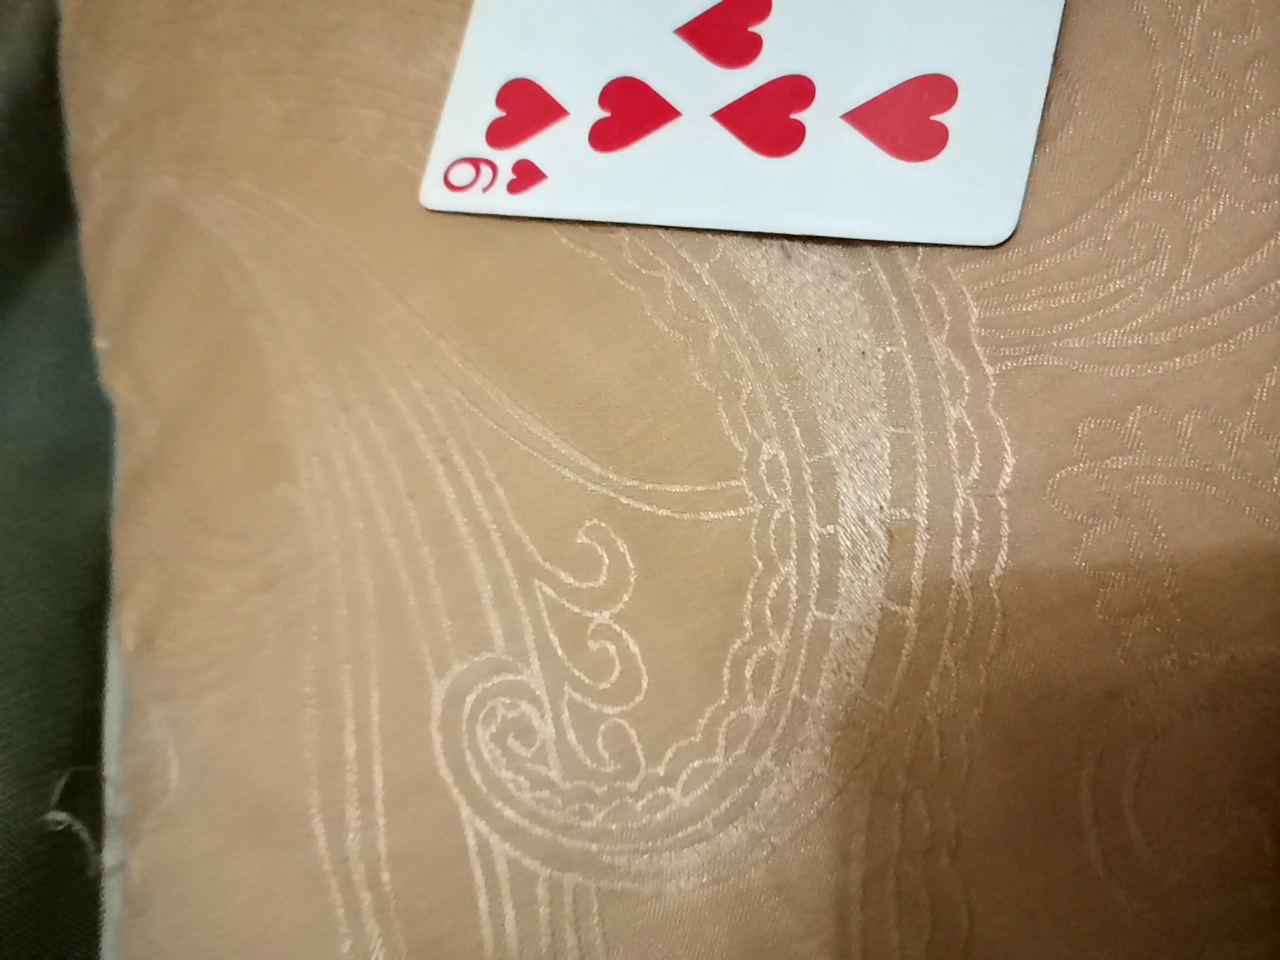hx 9: (402, 0, 1081, 275)
